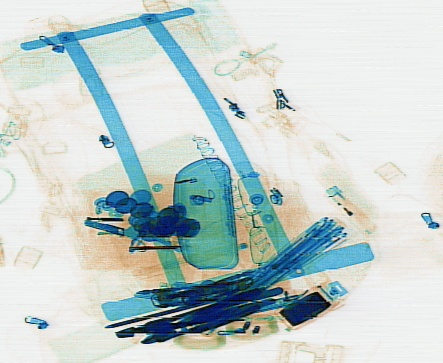lighter: (323, 184, 379, 238)
